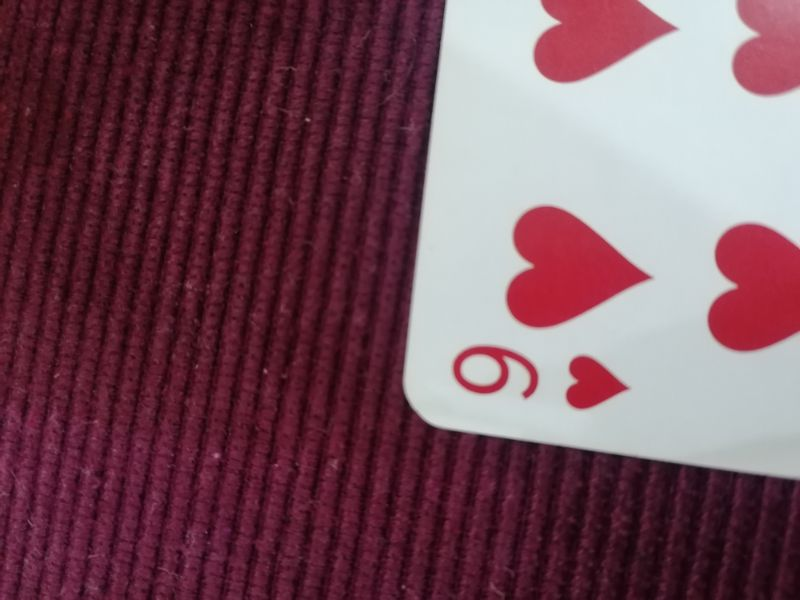9h: (444, 339, 636, 415)
